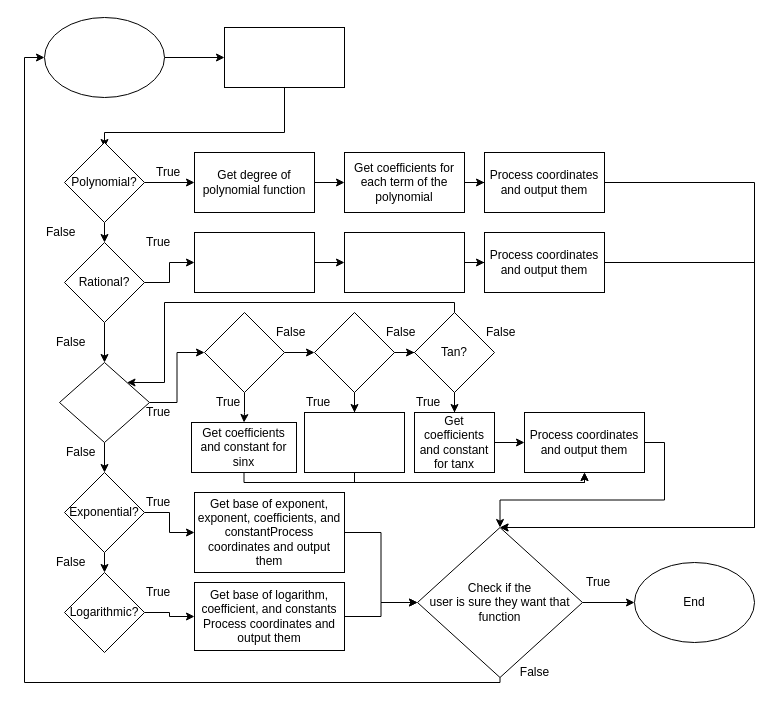
Image size: 780x708. Some labels were removed from this diagram. The shapes that lost their labels are listed below. From the top down, each one's centre as x and y in pixels, then its label:
(104,57): Start
(284,57): Get type of function
(254,262): Get degree of numerator and get coefficients
(404,262): Get degree of denominator and coefficients
(244,352): Sin?
(354,352): Cos?
(104,402): Trigonometric?
(354,442): Get coefficients and constant for cosx
